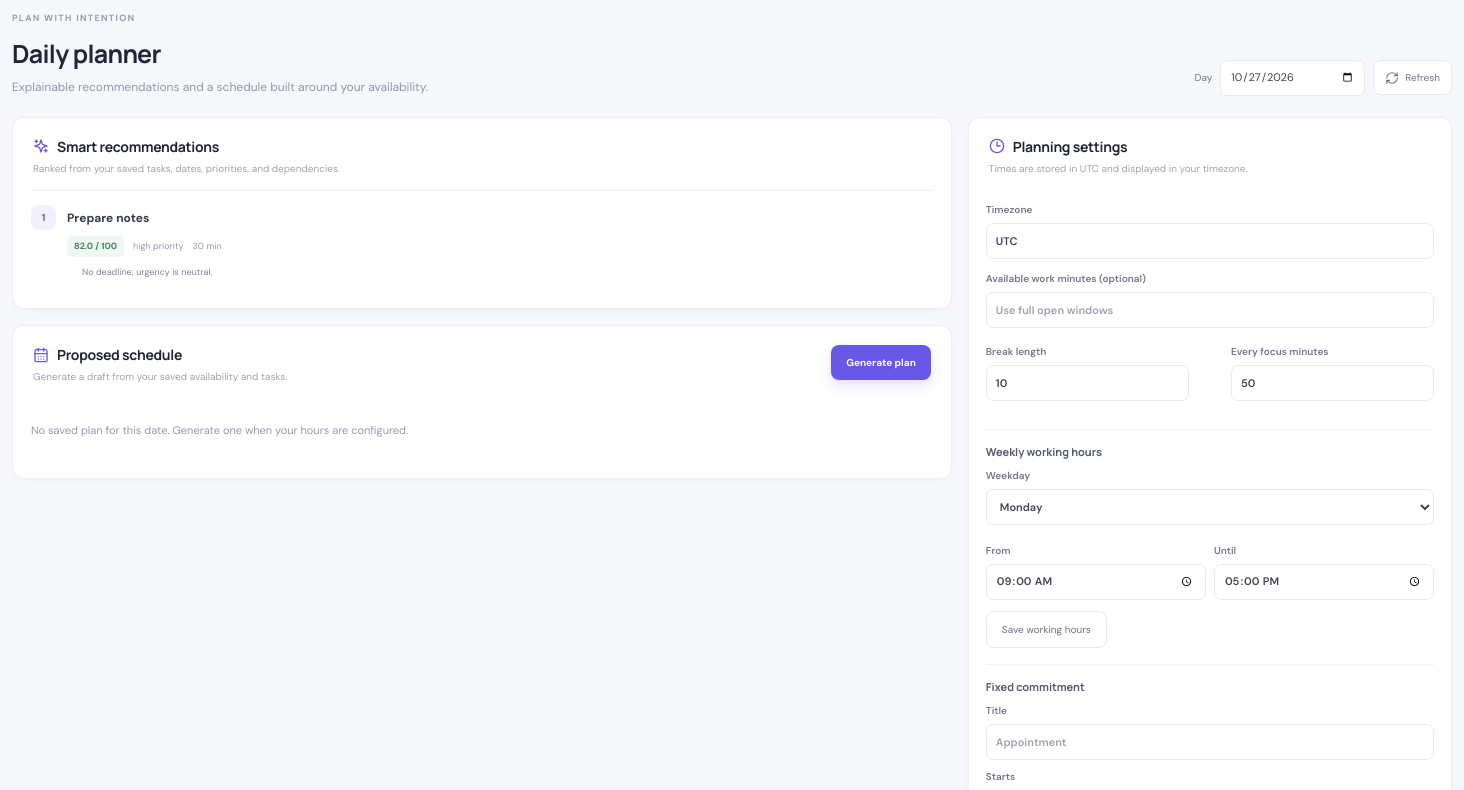
Test: DailyPlanner › explains a Monday-versus-Tuesday mismatch without making a doomed request
The image size is (1464, 790).
Expected: the text "Prepare notes" is shown, [67, 210, 149, 226]
Type "2026-10-26" into the date field labelled "Day" at (1293, 78), box [1220, 60, 1365, 96]
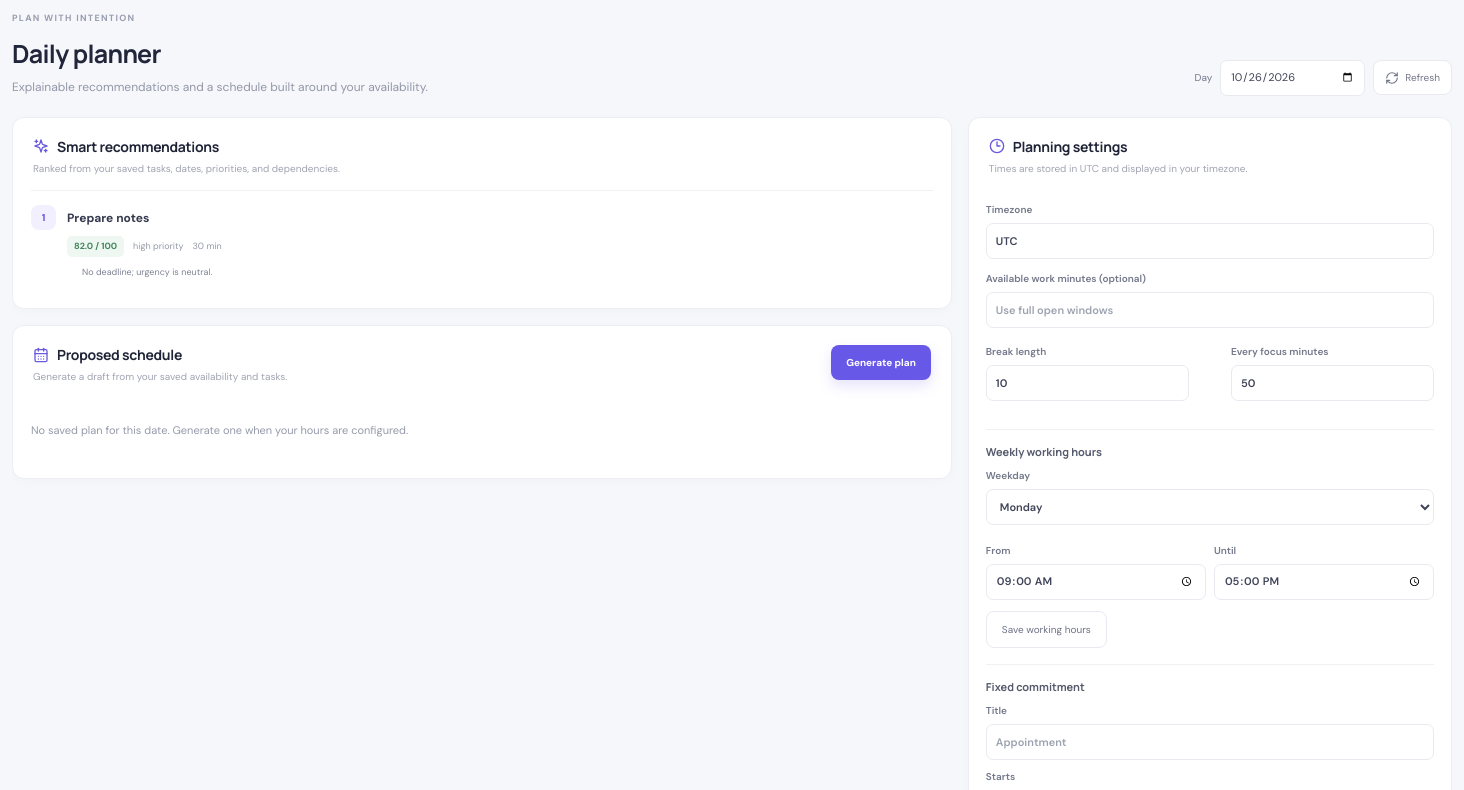
Click the button "Generate plan" at (881, 363), box [831, 345, 931, 380]
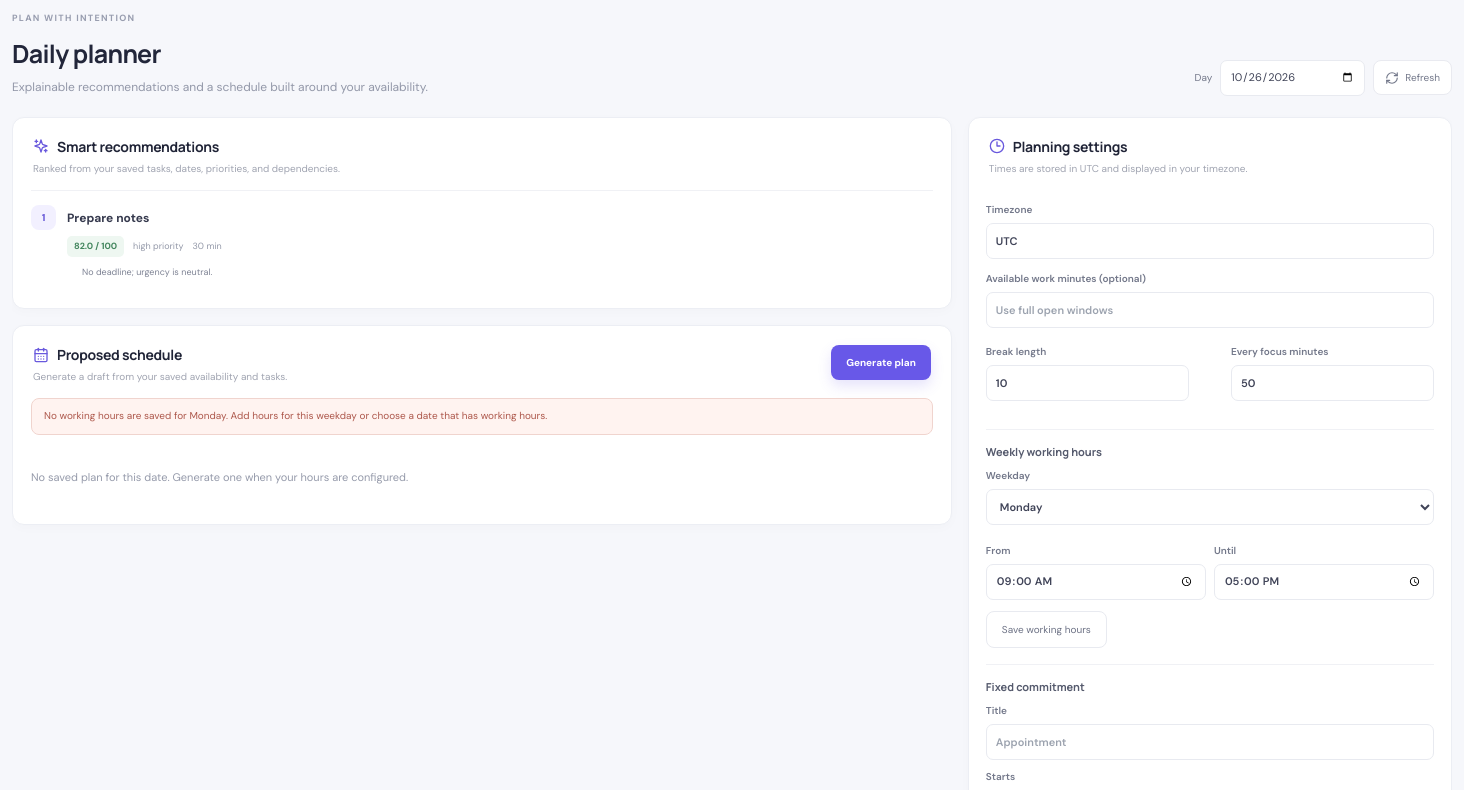
Now the message shows "No working hours are saved for Monday", box [44, 409, 547, 422]
